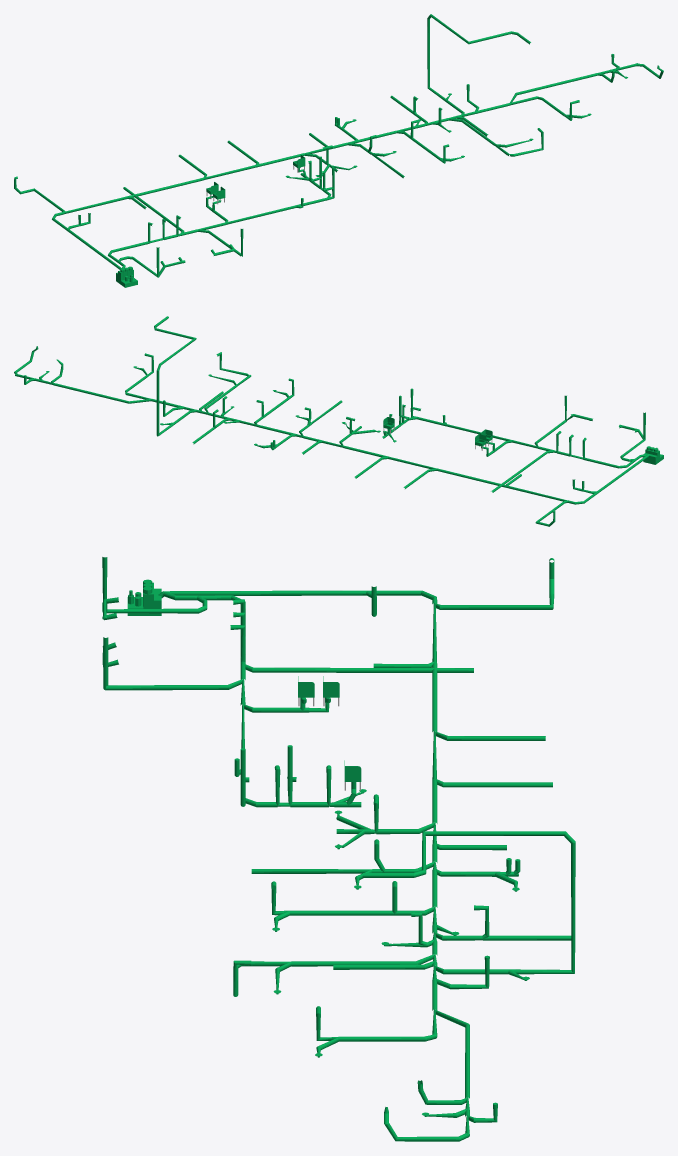
The model's file is canal.glb.
3 views of the same model, one above another, from view 1: azimuth 30°, elevation 25°; view 2: azimuth 150°, elevation 25°; view 3: azimuth 270°, elevation 25° (orthographic). The views are drawn at different scales.
Visible parts, largest first — view 1: Plane; view 2: Plane; view 3: Plane, Cube.003.
Boxes of the visible parts, x1,y1,x2,y2 form: Plane: (14,14,663,277); Plane: (14,316,650,526); Plane: (102,557,575,1141); Cube.003: (127,579,161,615).
Bounding box in the file's own units: 133 × 17.71 × 48.12.
